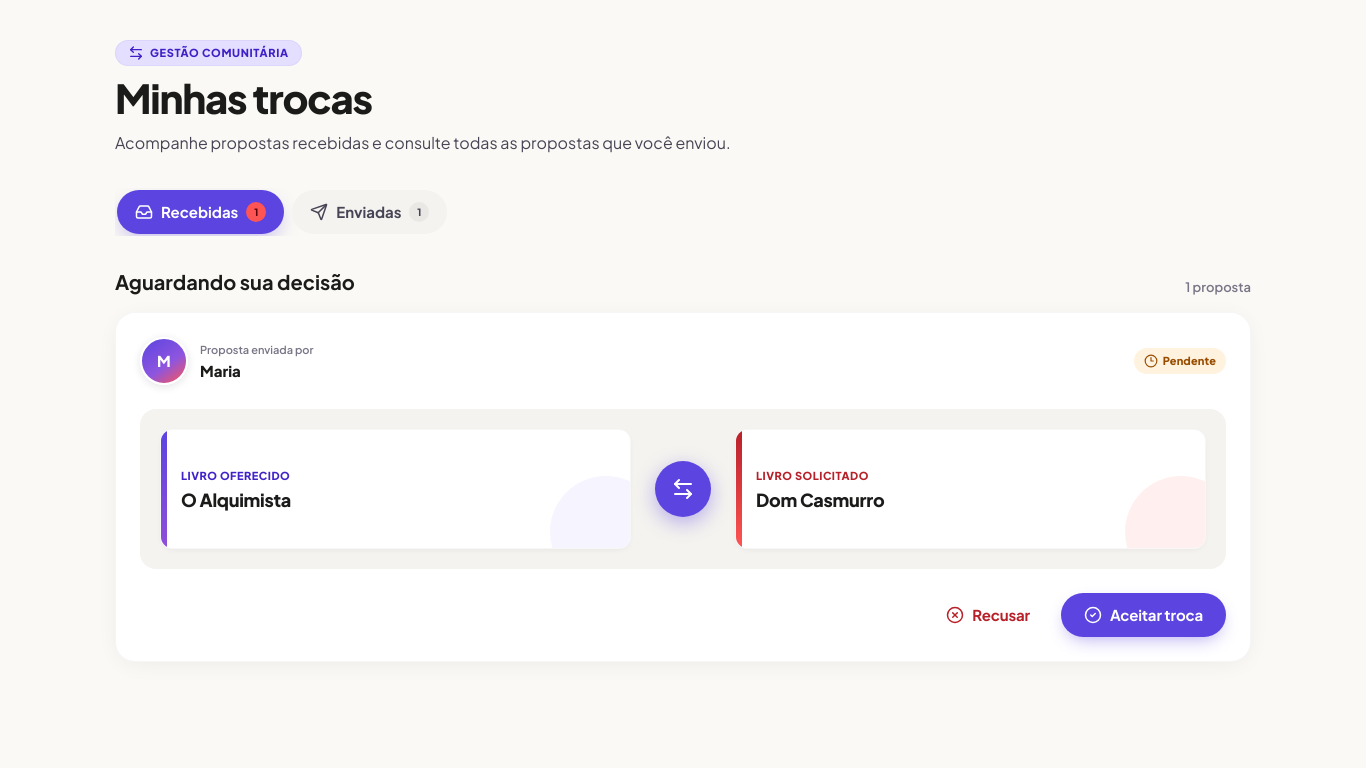
Test: ExchangesPage › confirma e envia PUT com a ação aceitar
The image size is (1366, 768).
Expected: the text "Maria" is shown, [200,361,241,380]
Click the button "Aceitar troca": [1144, 615] box [1061,593,1226,637]
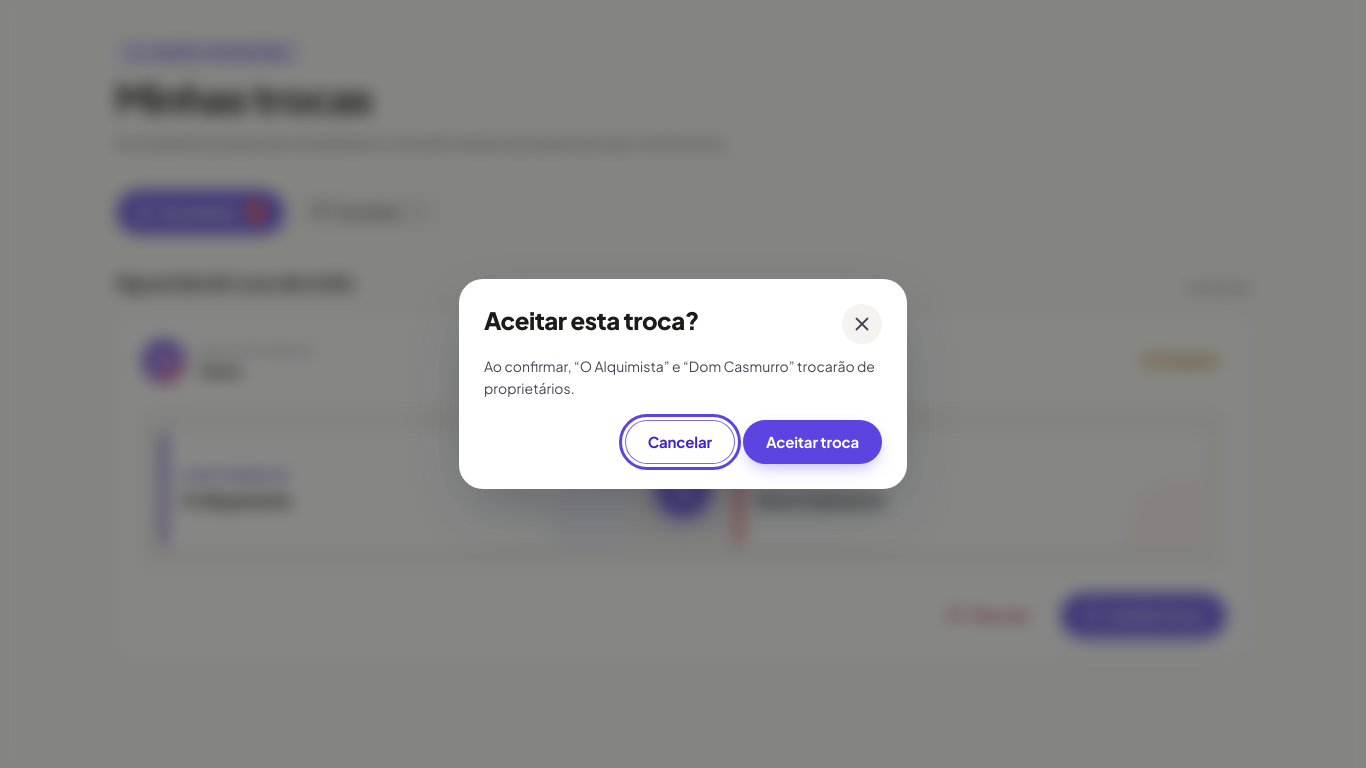
Click the button "Aceitar troca": [812, 442] box [743,420,882,464]
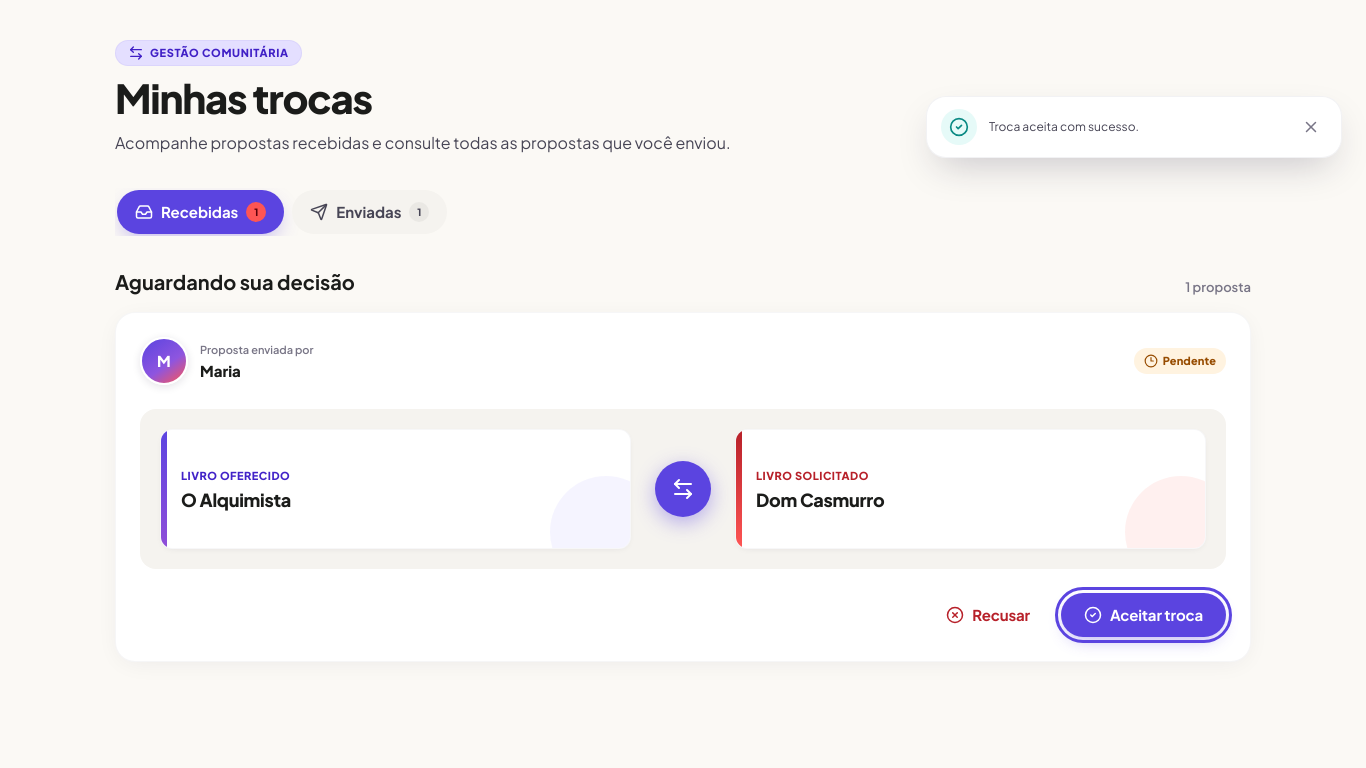
Expected: the text "Troca aceita com sucesso." is shown, [989,119,1139,134]
Expected: the heading "Aceitar esta troca?" is gone
